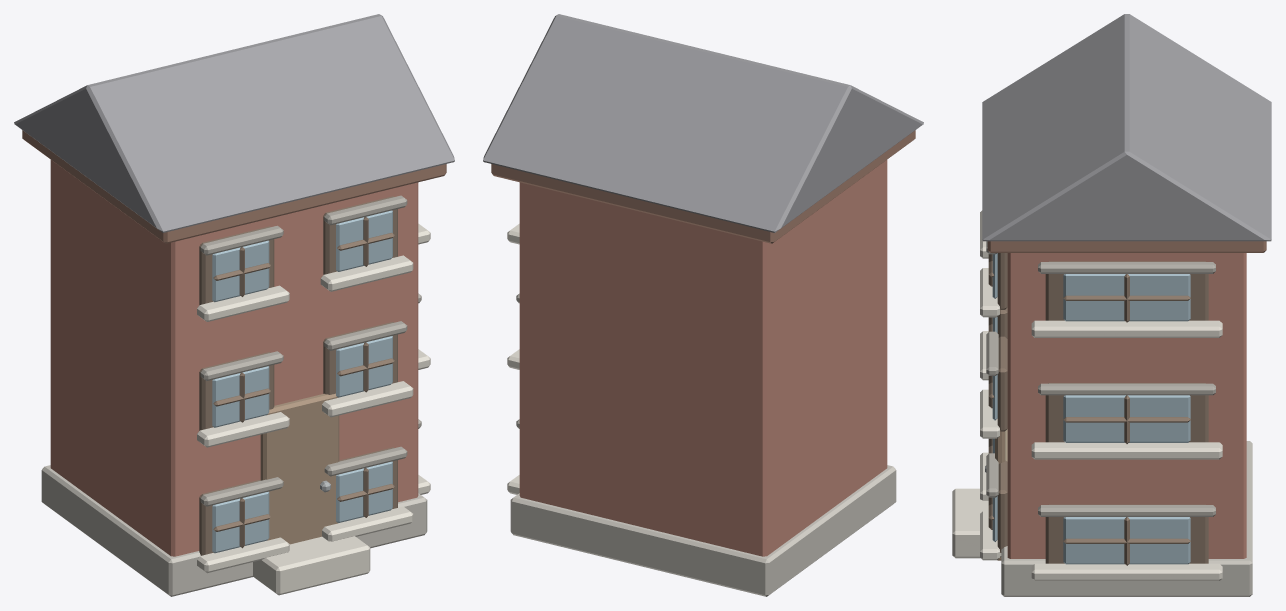
The model's file is townhouse_b.glb.
3 renders of one model, left to right at view 1: azimuth 30°, elevation 25°; view 2: azimuth 150°, elevation 25°; view 3: azimuth 270°, elevation 25°, orthographic. The views are drawn at different scales.
Visible parts, largest first — view 1: wall, roof, dframe, skirt, eave, step, wglass.002, wglass.004, wglass.005, wglass, wglass.001, wglass.003 (+17 smaller); view 2: wall, roof, skirt, eave; view 3: roof, wall, skirt, wglass.007, wglass.006, wglass.008, eave, wsill.006, wsill.007, wsill.008, wlintel.007, wlintel.006 (+16 smaller).
Boxes of the visible parts, box(x1,y1,x2,y2) form: wall: box(50, 160, 418, 556); roof: box(14, 14, 454, 232); dframe: box(260, 393, 339, 544); skirt: box(41, 465, 427, 596); eave: box(22, 130, 446, 243); step: box(253, 536, 370, 595); wglass.002: box(212, 366, 269, 427); wglass.004: box(212, 240, 269, 302); wglass.005: box(336, 210, 392, 271); wglass: box(212, 491, 269, 553); wglass.001: box(336, 461, 392, 522); wglass.003: box(336, 336, 392, 397); wall: box(519, 160, 887, 556); roof: box(483, 14, 923, 232); skirt: box(510, 465, 896, 596); eave: box(491, 130, 915, 243); roof: box(982, 14, 1271, 241); wall: box(1007, 253, 1246, 558); skirt: box(1001, 441, 1252, 596); wglass.007: box(1063, 395, 1190, 442); wglass.006: box(1063, 517, 1190, 564); wglass.008: box(1063, 274, 1190, 321); eave: box(987, 241, 1266, 252); wsill.006: box(1031, 563, 1222, 580); wsill.007: box(1031, 442, 1222, 459); wsill.008: box(1031, 320, 1222, 337); wlintel.007: box(1038, 383, 1215, 395); wlintel.006: box(1038, 505, 1215, 516).
Bounding box in the file's own units: 1.32 × 2.02 × 1.27.
